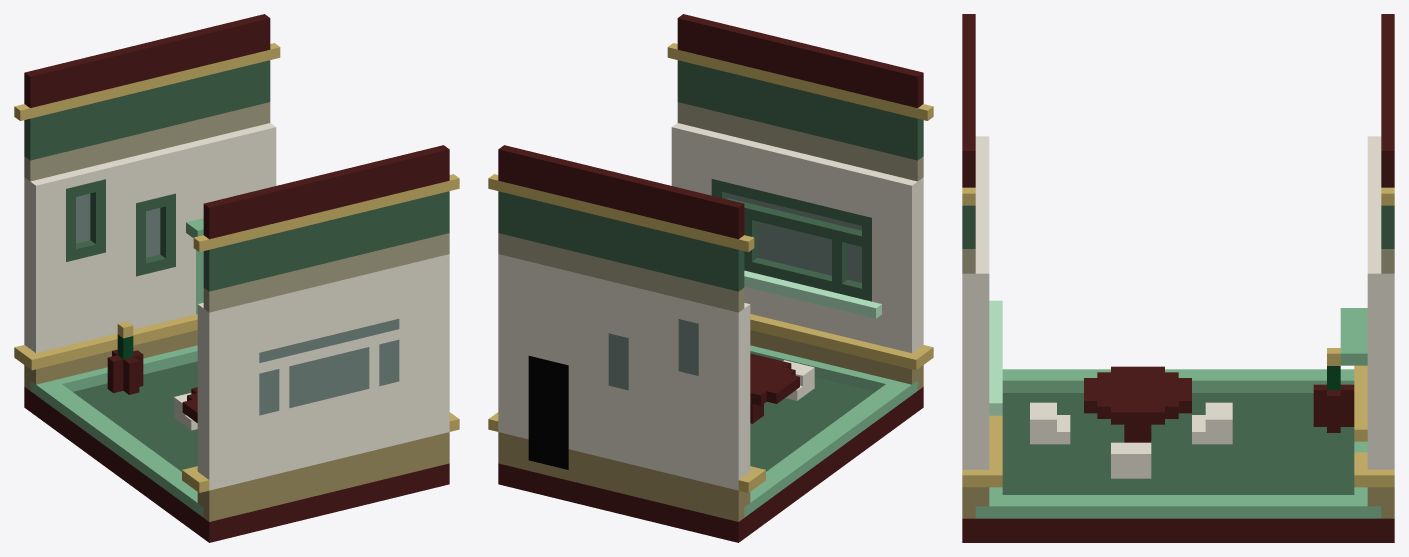
Rendered from tile_3_middle_nr_90.obj.
3 renders of one model, left to right at view 1: azimuth 30°, elevation 25°; view 2: azimuth 150°, elevation 25°; view 3: azimuth 270°, elevation 25°, orthographic. The views are drawn at different scales.
Size of the model in its own units: 2.6 by 3.2 by 3.2.
